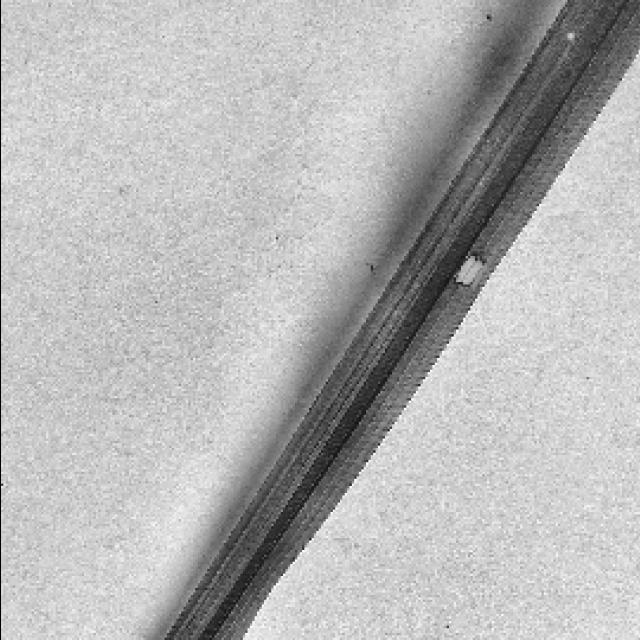Leaf_Blast: (436, 214, 481, 344)
